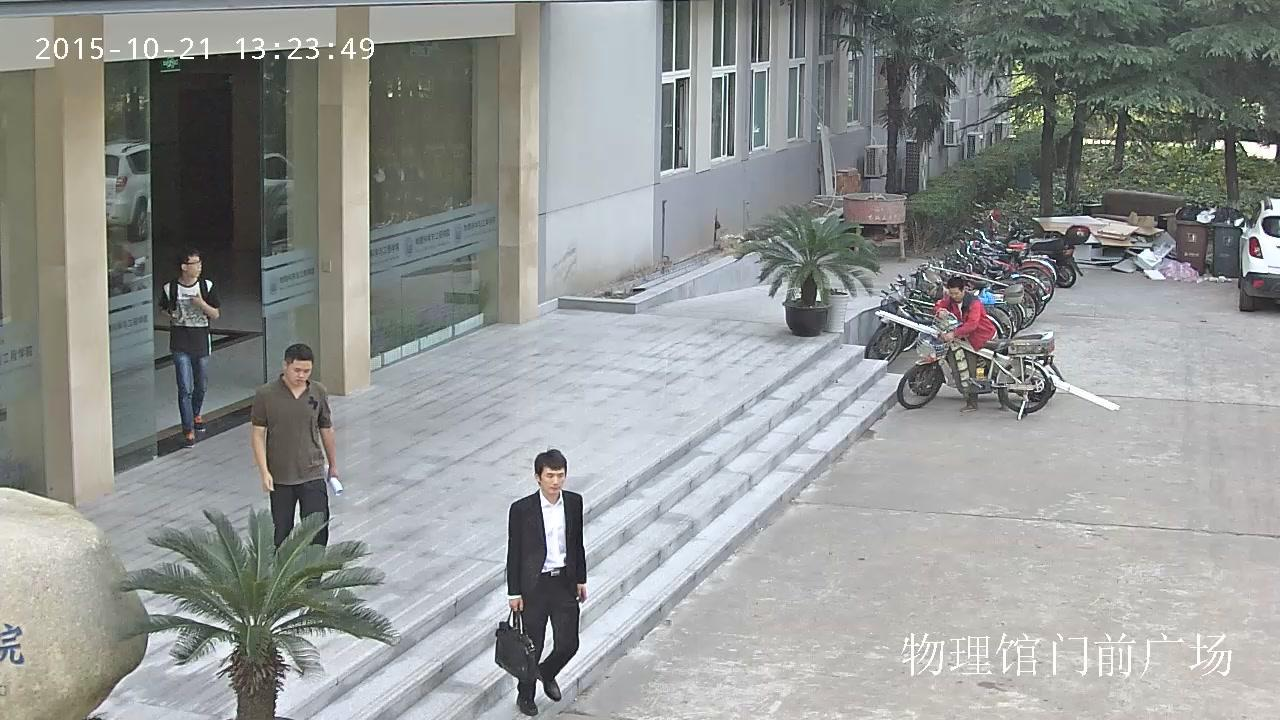person: (495, 447, 586, 714), (897, 277, 1055, 420), (252, 344, 342, 587), (160, 249, 220, 449), (935, 278, 996, 415)
